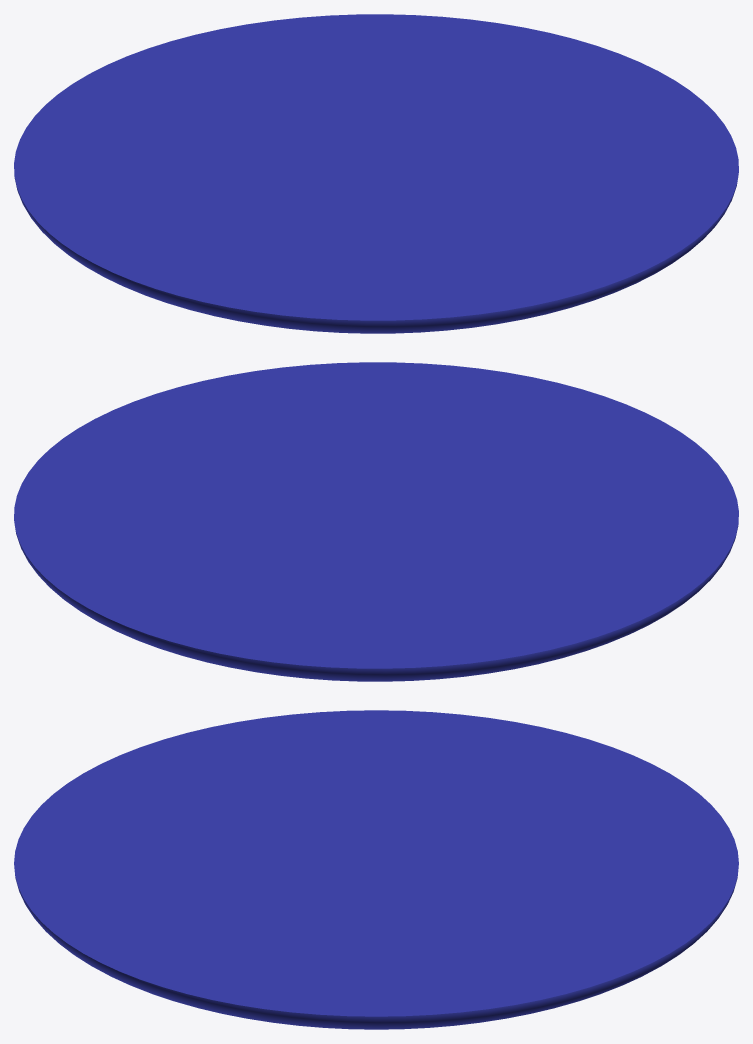
3 views of the same model, one above another, from view 1: azimuth 30°, elevation 25°; view 2: azimuth 150°, elevation 25°; view 3: azimuth 270°, elevation 25° (orthographic).
Visible parts, largest first — view 1: root; view 2: root; view 3: root.
Part boxes in pixels (bbox=[...]): root: bbox=[14, 14, 738, 333]; root: bbox=[14, 362, 738, 681]; root: bbox=[14, 710, 738, 1029].
Bounding box in the file's own units: 0.2725 × 0.0267 × 0.2725.
1 material, 1 textured.
